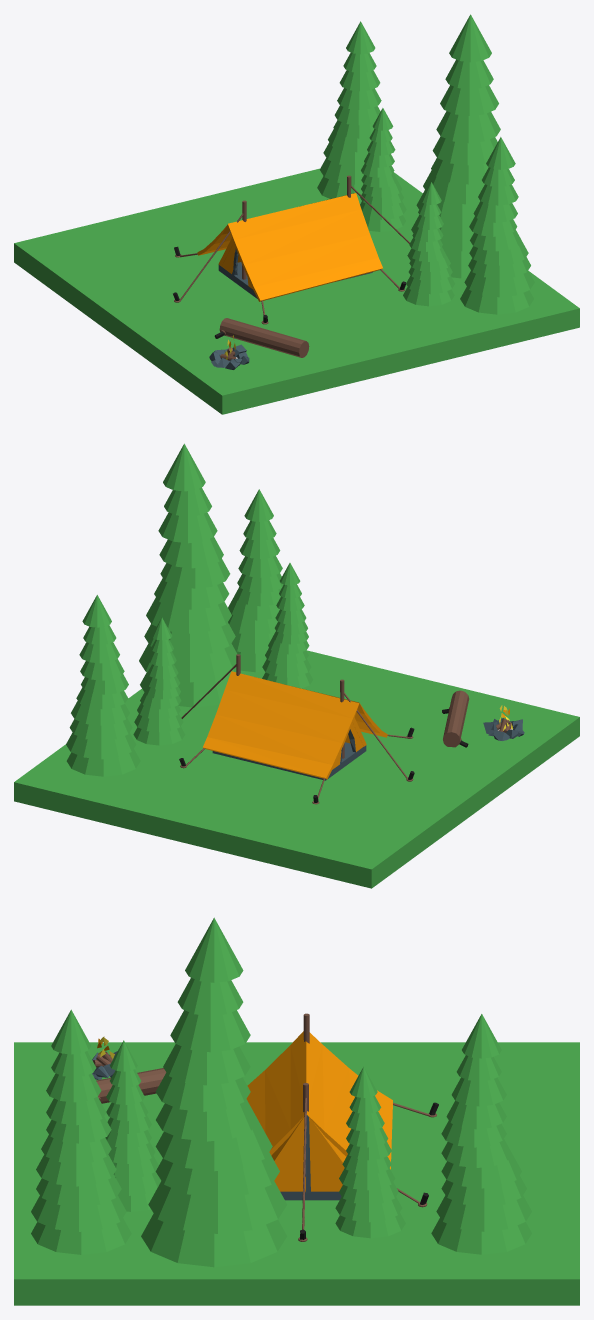
The model's file is camp_site.glb.
The picture shows the model from 3 angles, top to bottom: view 1: azimuth 30°, elevation 25°; view 2: azimuth 150°, elevation 25°; view 3: azimuth 270°, elevation 25°; orthographic projection. The views are drawn at different scales.
Visible parts, largest first — view 1: group1292612855, group326174911, group1529860242_feab89, group189035796_eacabc, group2144833775_e72df6, group1698260185_0dfa5d, group2098336265_d2ba02, group324380574; view 2: group1292612855, group1529860242_feab89, group1567315581, group2144833775_e72df6, group189035796_eacabc, group2098336265_d2ba02, group1698260185_0dfa5d, group324380574, group257749776; view 3: group1292612855, group1529860242_feab89, group189035796_eacabc, group2144833775_e72df6, group2098336265_d2ba02, group1698260185_0dfa5d, group1567315581, group326174911, group784294784, group324380574, group257749776.
Boxes of the visible parts, x1,y1,x2,y2 form: group1292612855: (14,168,579,414); group326174911: (228,193,382,301); group1529860242_feab89: (407,14,500,278); group189035796_eacabc: (460,137,534,314); group2144833775_e72df6: (317,21,381,202); group1698260185_0dfa5d: (403,182,455,306); group2098336265_d2ba02: (360,108,406,231); group324380574: (219,318,309,357); group1292612855: (14,650,579,888); group1529860242_feab89: (139,443,240,707); group1567315581: (202,671,359,779); group2144833775_e72df6: (66,595,140,776); group189035796_eacabc: (228,489,283,672); group2098336265_d2ba02: (133,617,185,745); group1698260185_0dfa5d: (262,563,313,688); group324380574: (443,690,469,747); group257749776: (212,742,366,780); group1292612855: (14,1042,579,1305); group1529860242_feab89: (141,917,287,1267); group189035796_eacabc: (31,1009,131,1254); group2144833775_e72df6: (431,1014,531,1254); group2098336265_d2ba02: (335,1066,405,1238); group1698260185_0dfa5d: (105,1040,161,1211); group1567315581: (306,1032,392,1169); group326174911: (246,1031,306,1155); group784294784: (271,1116,345,1191); group324380574: (96,1068,166,1103); group257749776: (280,1191,341,1200).
Bounding box in the file's own units: 1.18 × 0.8384 × 1.18.
